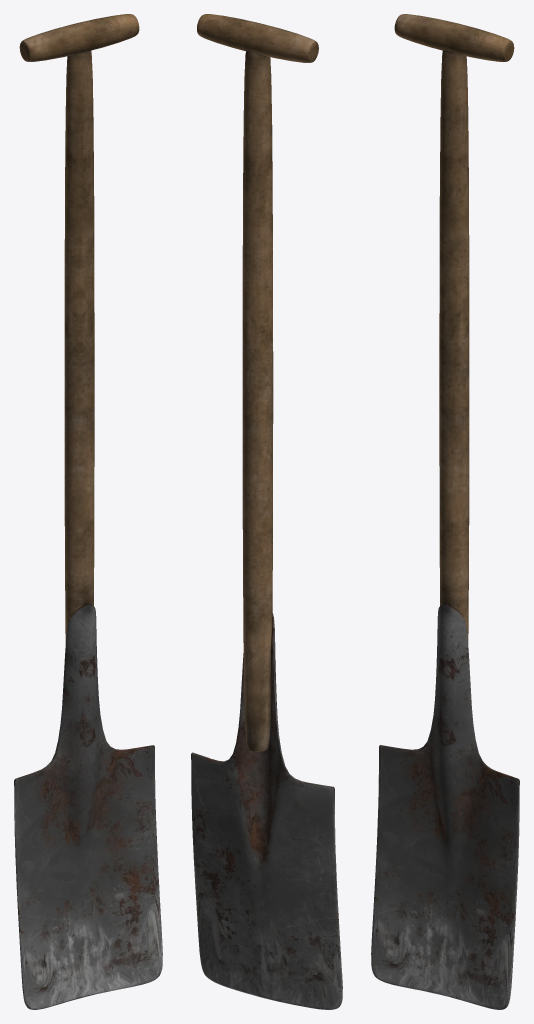
Rendered from rusted-spade-01.glb.
3 views of the same model, side by side, from view 1: azimuth 30°, elevation 25°; view 2: azimuth 150°, elevation 25°; view 3: azimuth 330°, elevation 25° (orthographic). The views are drawn at different scales.
Parts seen in each view (by area): view 1: rusted_spade_01; view 2: rusted_spade_01; view 3: rusted_spade_01.
Boxes of the visible parts, <box> form: rusted_spade_01: <box>14,14,162,1009</box>; rusted_spade_01: <box>191,14,342,1009</box>; rusted_spade_01: <box>371,14,519,1009</box>.
Size of the model in its own units: 0.1681 by 1.1 by 0.0456.
1 material, 1 textured.
